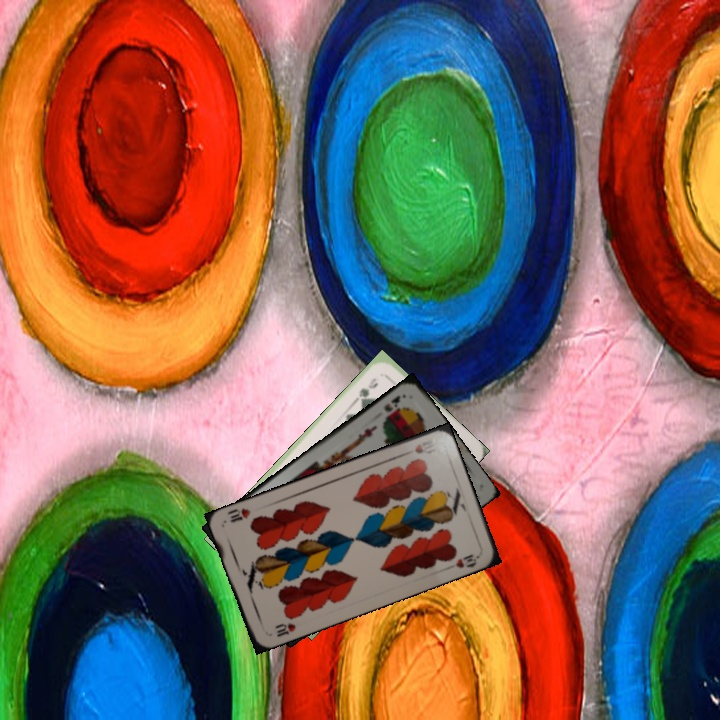G9: (352, 374, 380, 403)
H10: (399, 433, 439, 458), (271, 618, 298, 639)
SK: (380, 391, 403, 421)
